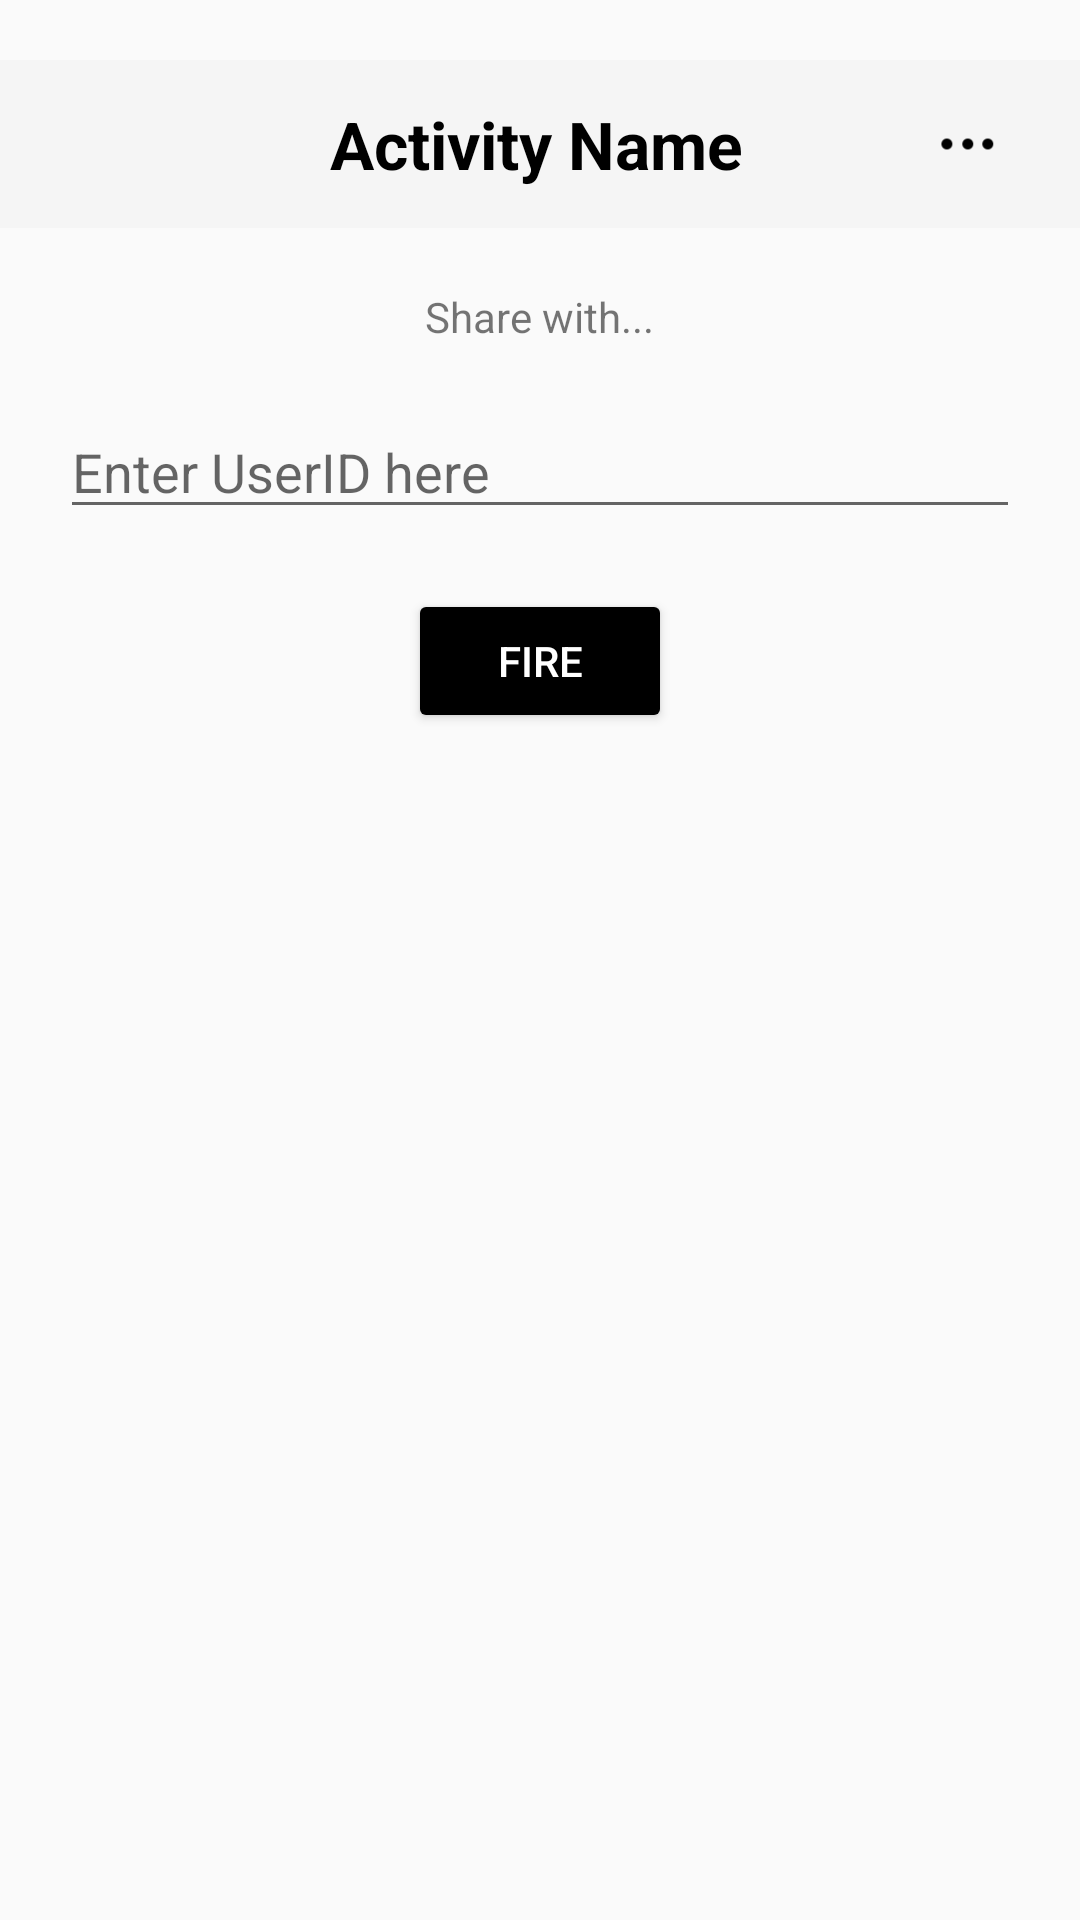

Icon click points for this 1080x1920 phone screenshot, format [x,y]:
navbar more: [967,144]
